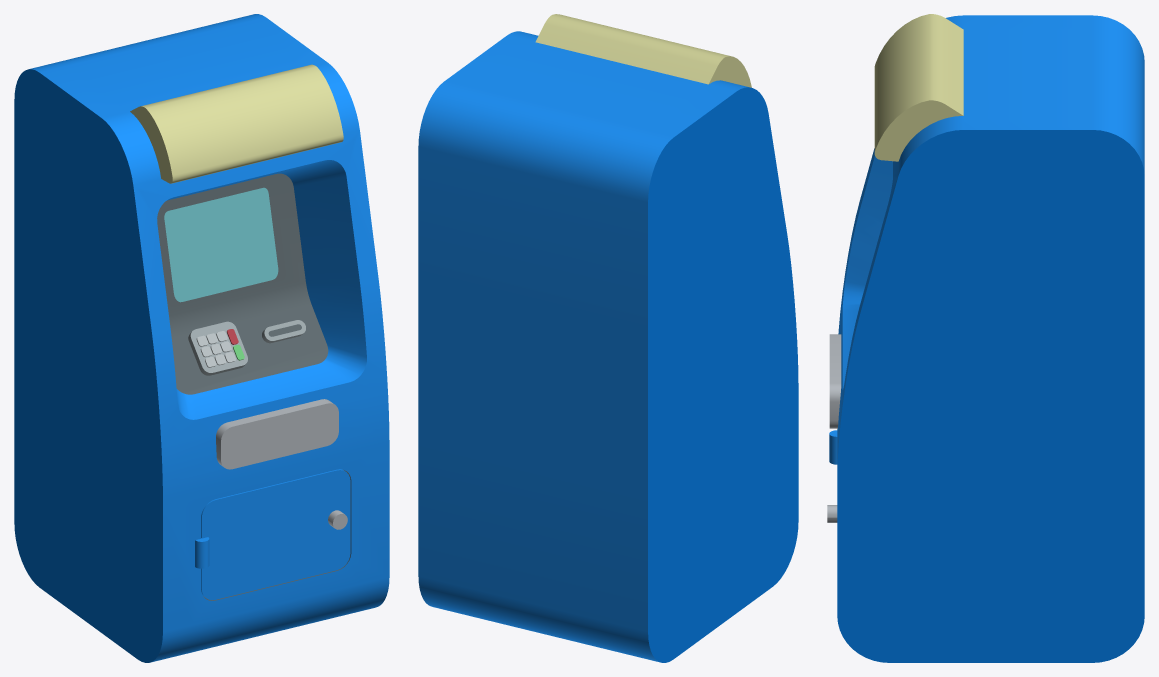
File: ATM.fbx
3 renders of one model, left to right at view 1: azimuth 30°, elevation 25°; view 2: azimuth 150°, elevation 25°; view 3: azimuth 270°, elevation 25°, orthographic. The views are drawn at different scales.
Parts seen in each view (by area): view 1: ATM.001, ATM, ATM.002; view 2: ATM.001; view 3: ATM.001, ATM.002, ATM.
Boxes of the visible parts, box(x1,y1,x2,y2) form: ATM.001: box(14, 14, 389, 662); ATM: box(195, 469, 350, 600); ATM.002: box(216, 399, 338, 469); ATM.001: box(418, 14, 798, 662); ATM.001: box(837, 14, 1144, 662); ATM.002: box(829, 334, 841, 428); ATM: box(827, 430, 837, 522).
Size of the model in its own units: 1.18 by 2.64 by 1.39.
